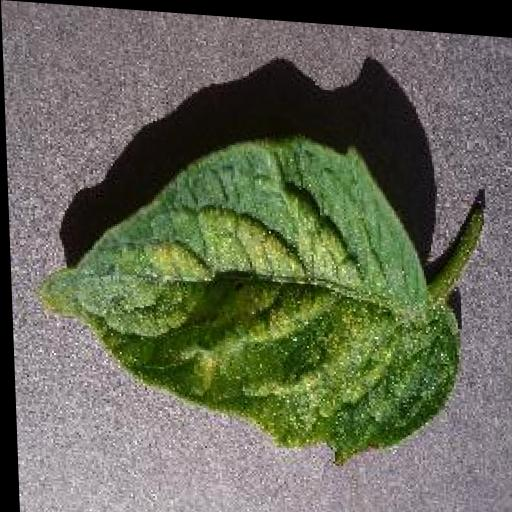Spider Mites: (39, 113, 465, 461)
